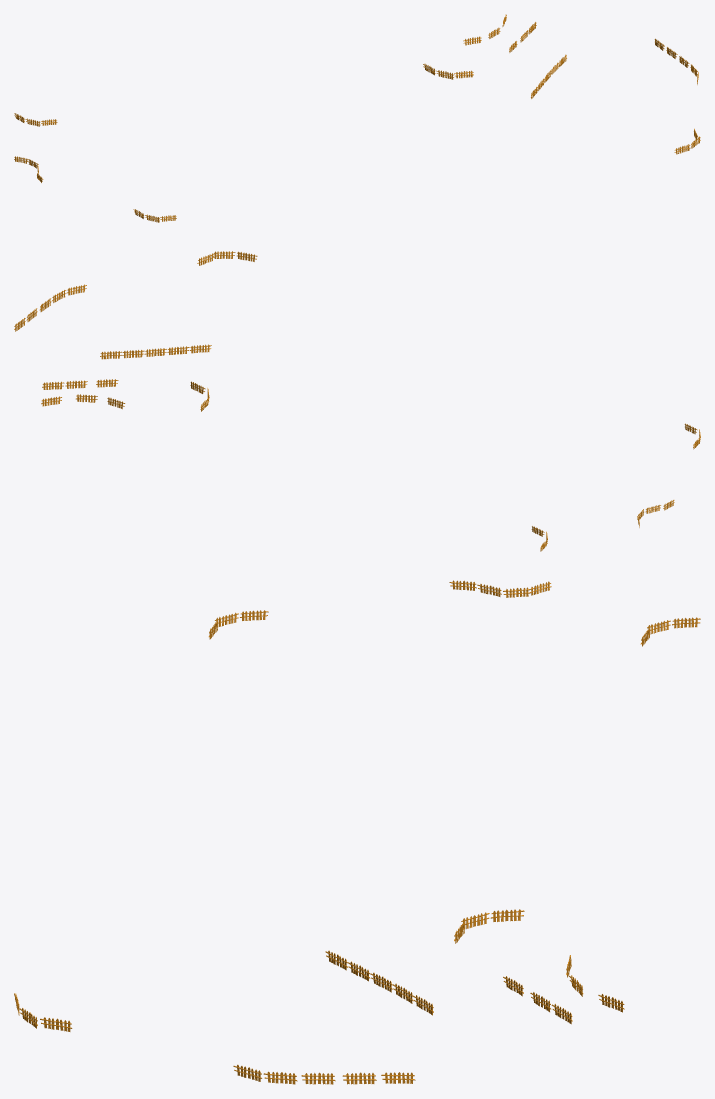
File: vallas 1.fbx
3 renders of one model, top to bottom at view 1: azimuth 30°, elevation 25°; view 2: azimuth 150°, elevation 25°; view 3: azimuth 270°, elevation 25°, orthographic. The views are drawn at different scales.
Bounding box in the file's own units: 22341 × 257 × 13072.
